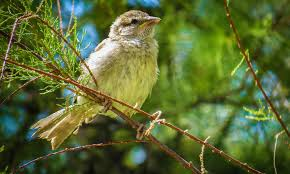hsparrow: (29, 5, 167, 154)
